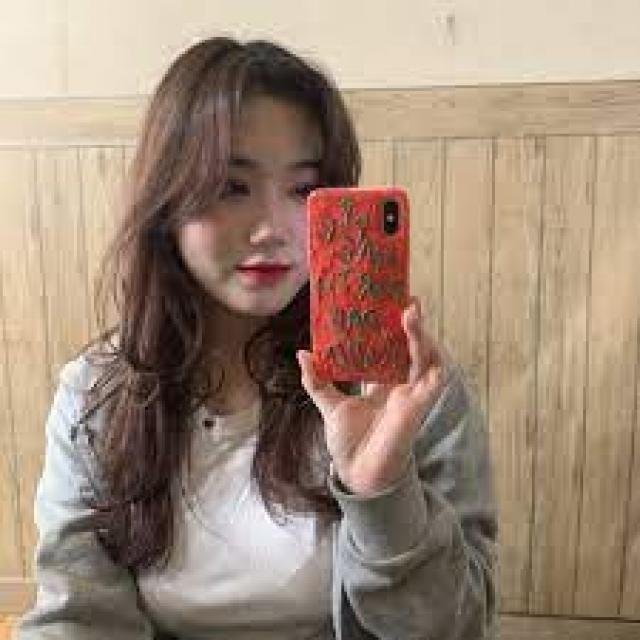Phone: (306, 186, 414, 381)
